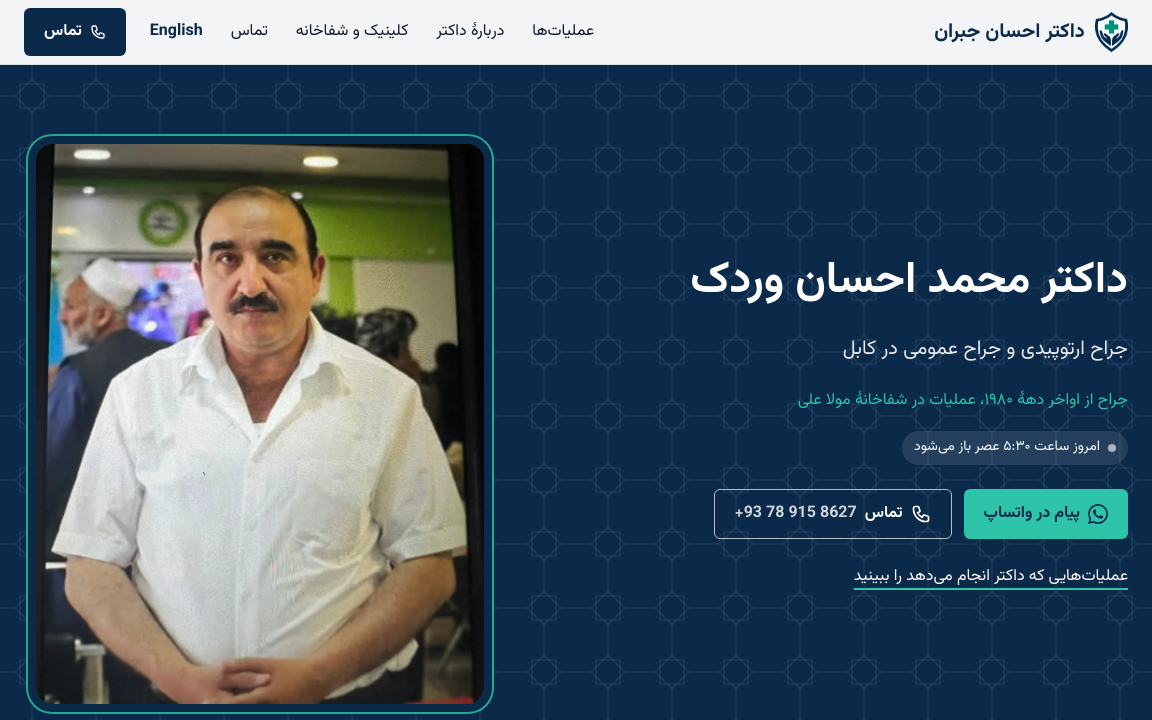
Test case: switches the whole page to English
Click the link with aria-label "Switch to English". click: (176, 31)
box: [150, 19, 203, 44]
(page scrolled)
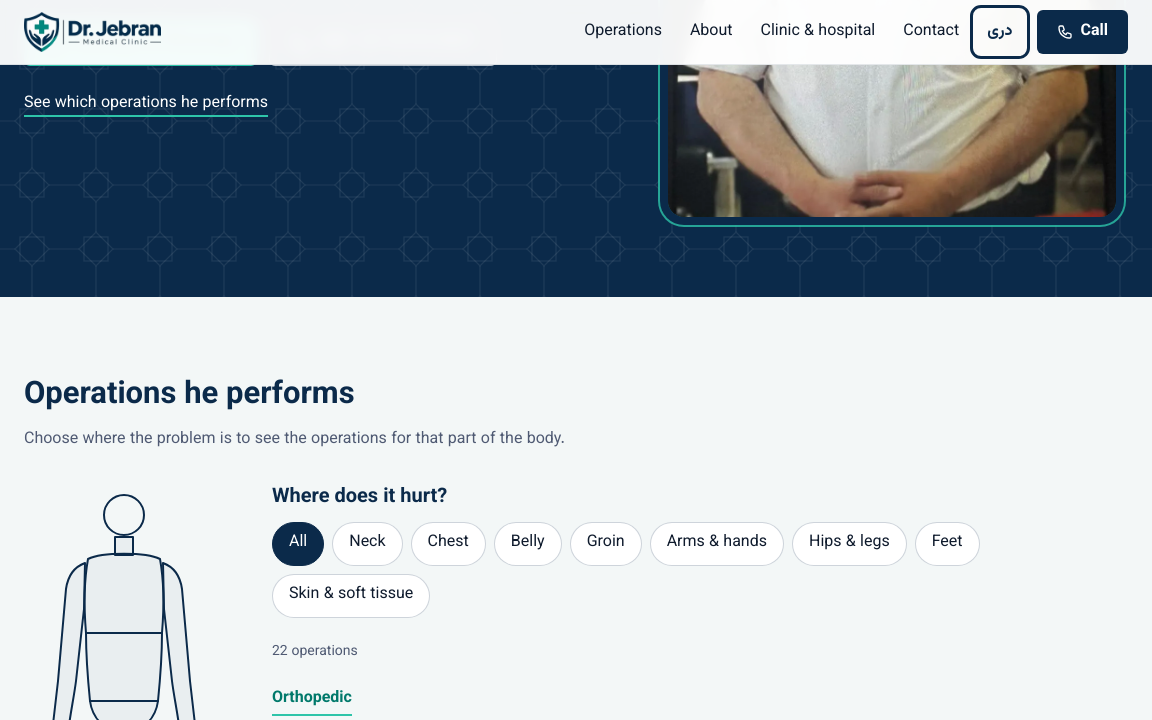
expect the heading "Operations he performs" is shown: met, box [24, 371, 355, 420]
